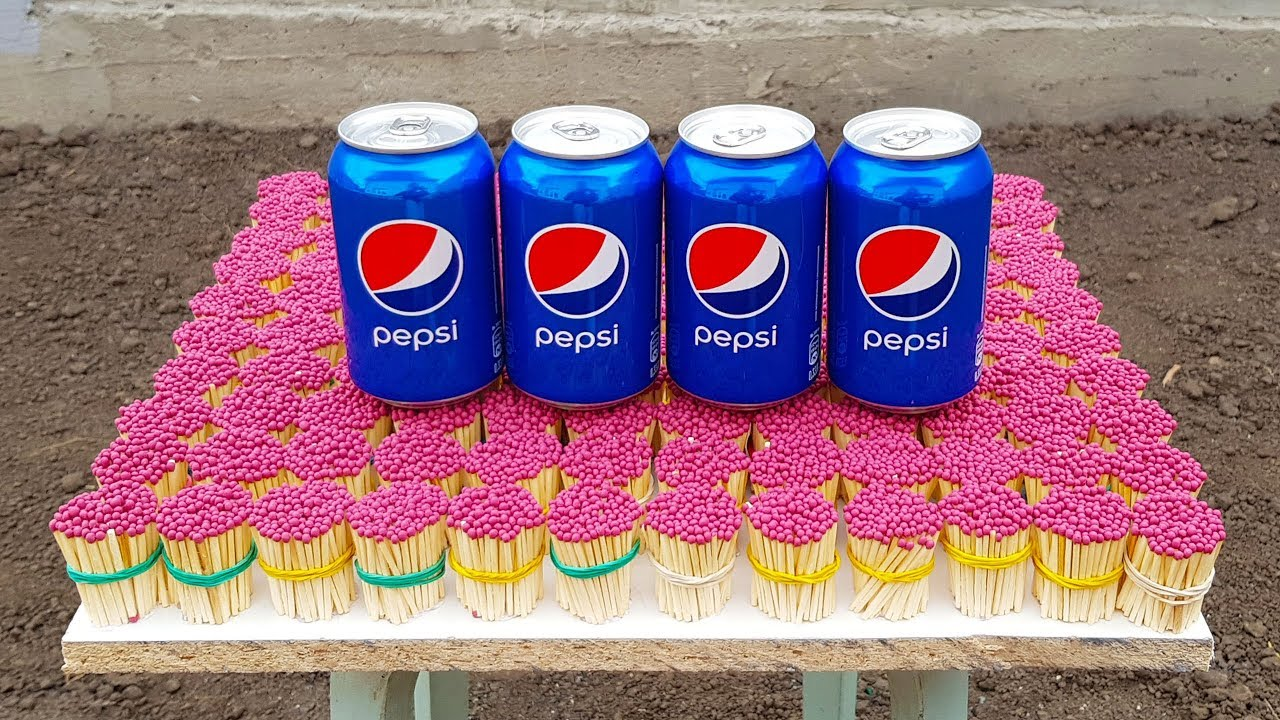pepsi: (352, 211, 463, 316), (352, 216, 463, 316), (355, 216, 463, 316), (849, 221, 959, 319), (523, 218, 628, 317), (854, 221, 959, 319), (523, 221, 628, 317), (686, 218, 787, 317)
